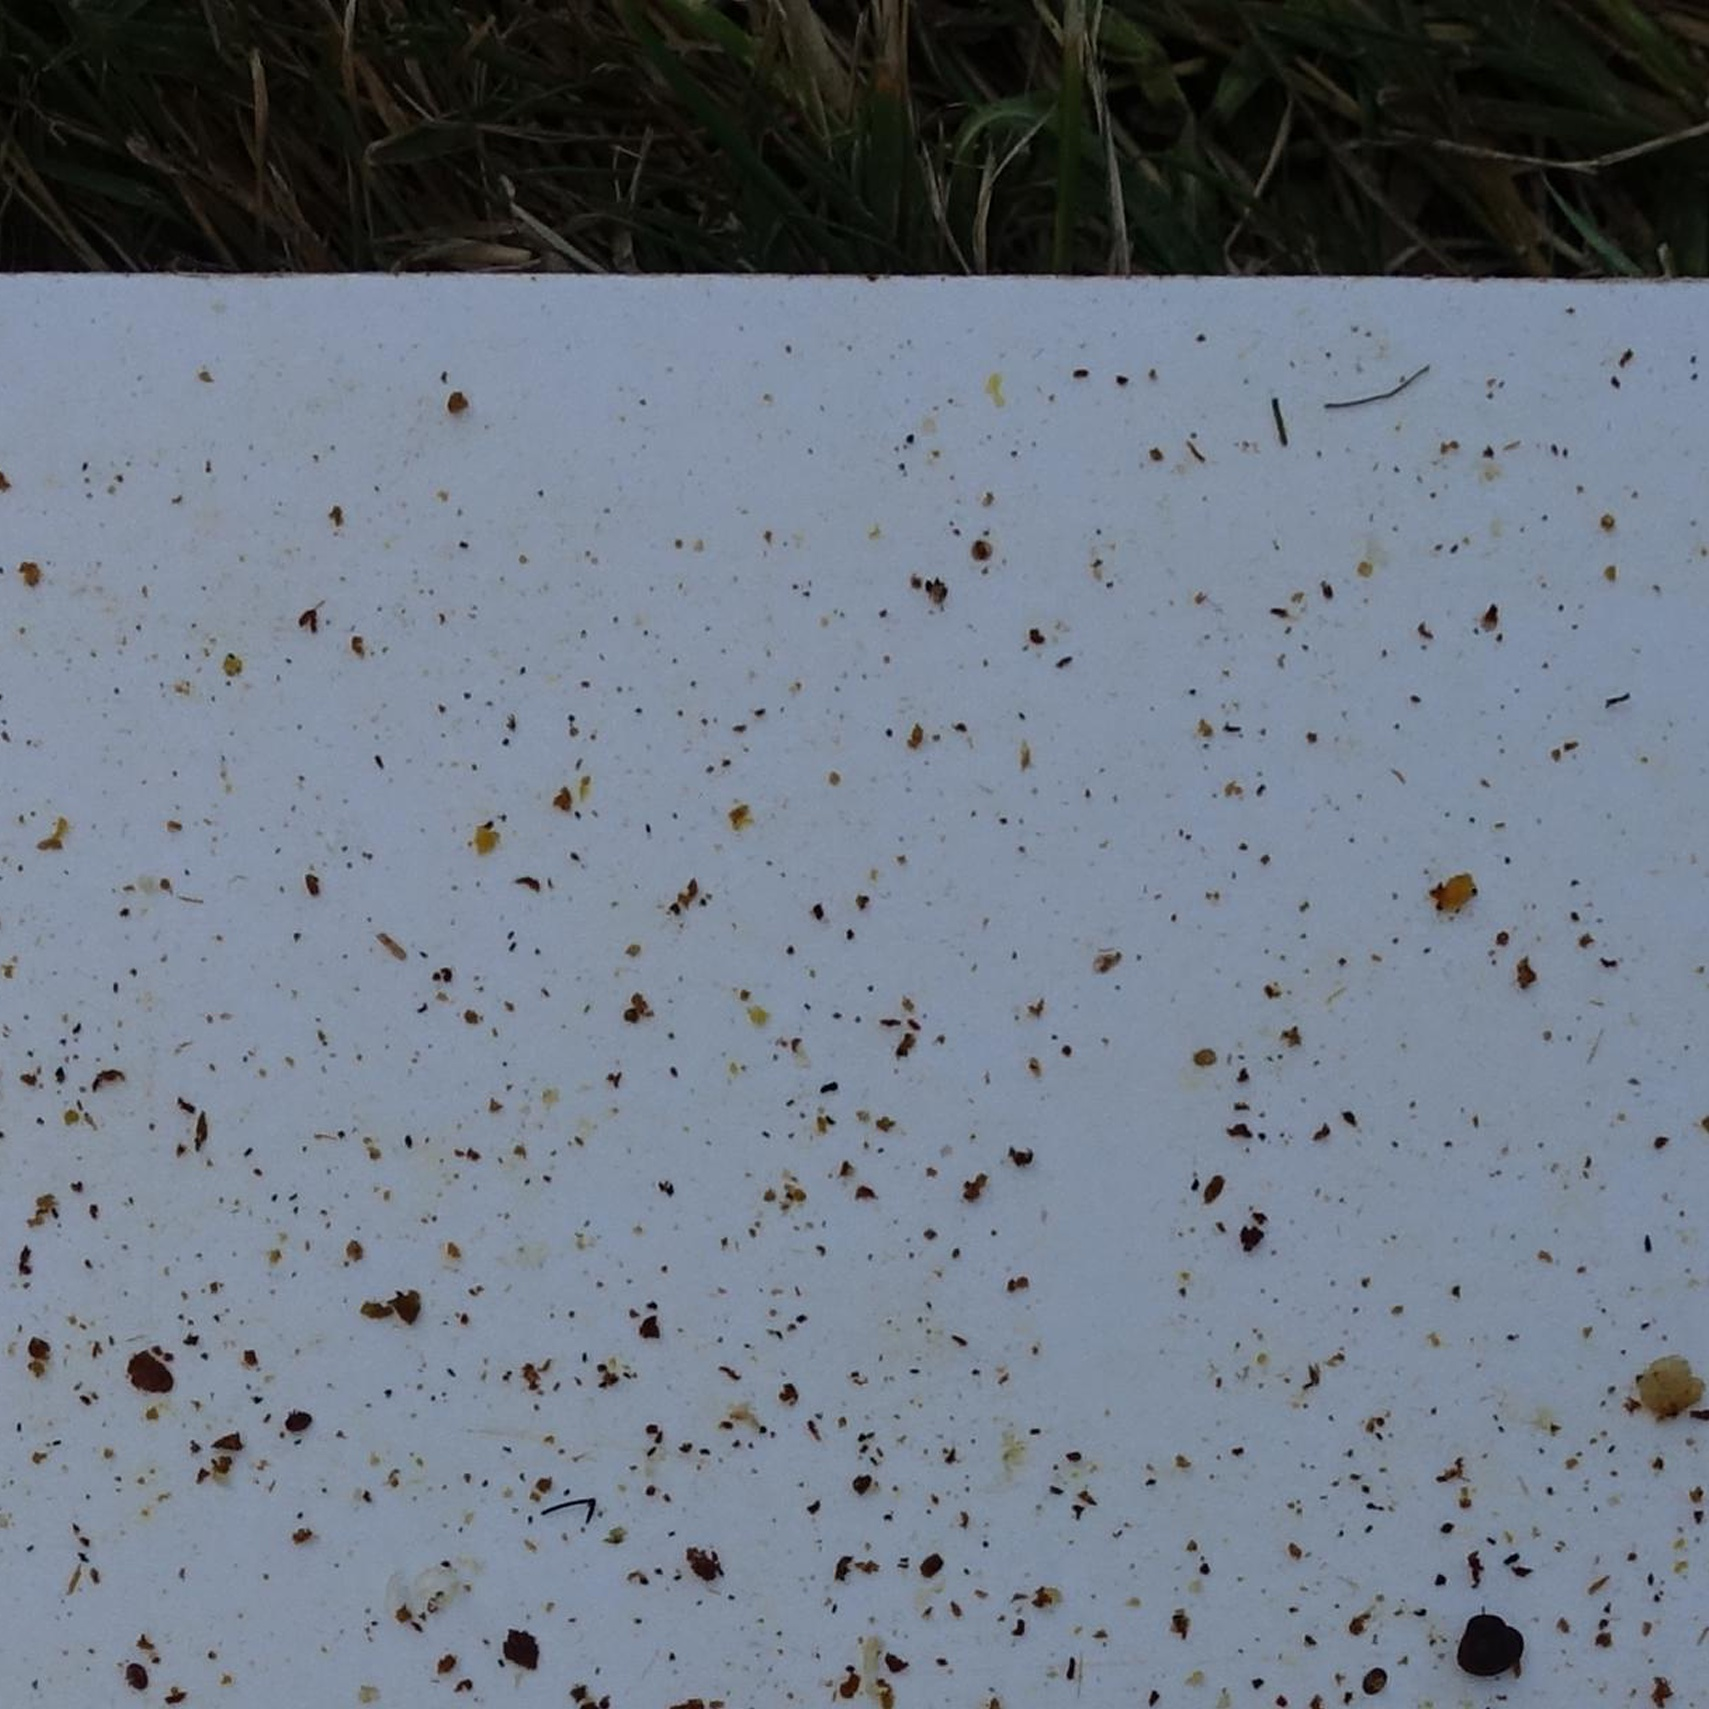Varroa: (121, 1657, 155, 1693), (1355, 1662, 1390, 1696), (282, 1401, 316, 1434)
